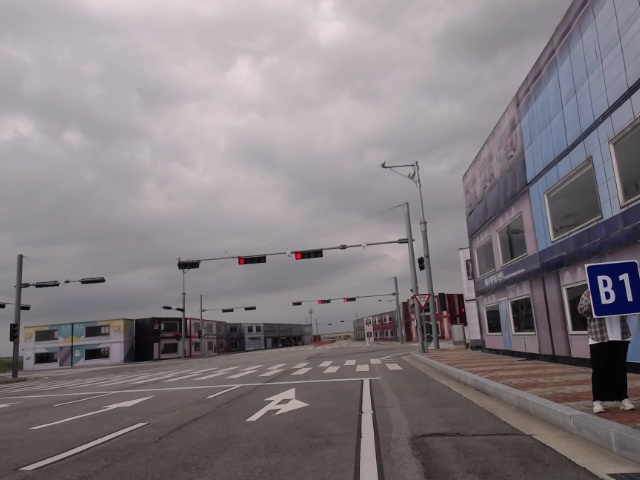delivery_b1: (585, 260, 639, 318)
red_4: (295, 250, 323, 260), (238, 257, 266, 264), (344, 298, 357, 302), (318, 300, 331, 304)
